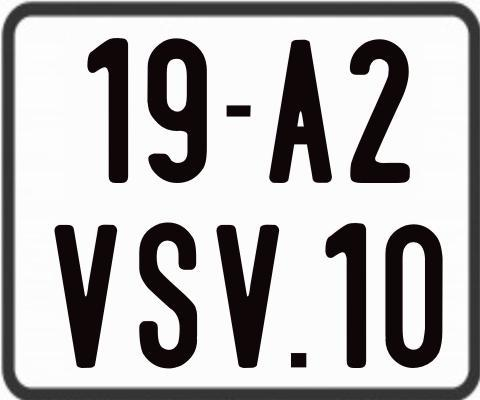0: (384, 223, 442, 373)
1: (322, 223, 365, 369), (85, 36, 128, 181)
2: (349, 36, 411, 180)
9: (145, 38, 210, 188)
A: (268, 39, 332, 186)
S: (136, 221, 199, 367)
V: (53, 224, 120, 372), (217, 225, 279, 373)
